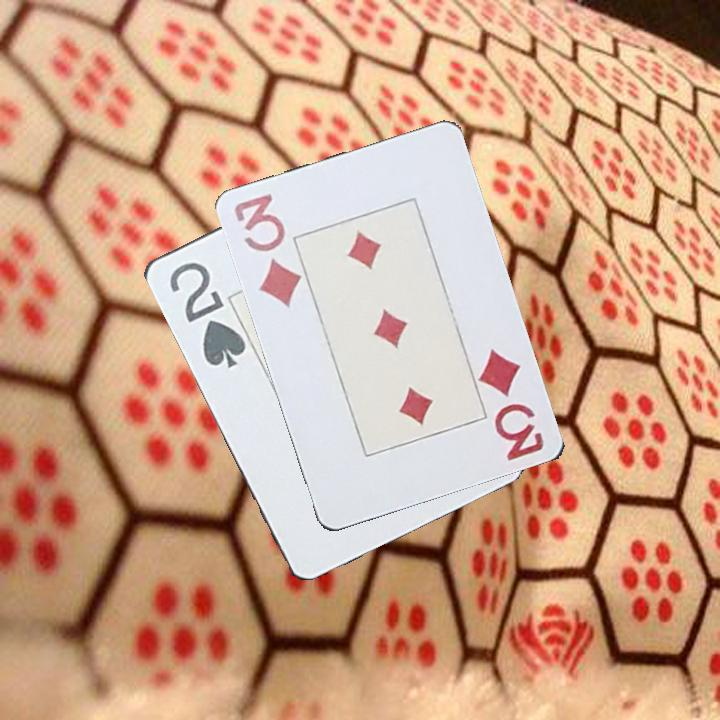2s: (165, 258, 248, 371)
3d: (231, 190, 305, 311), (476, 345, 548, 464)
